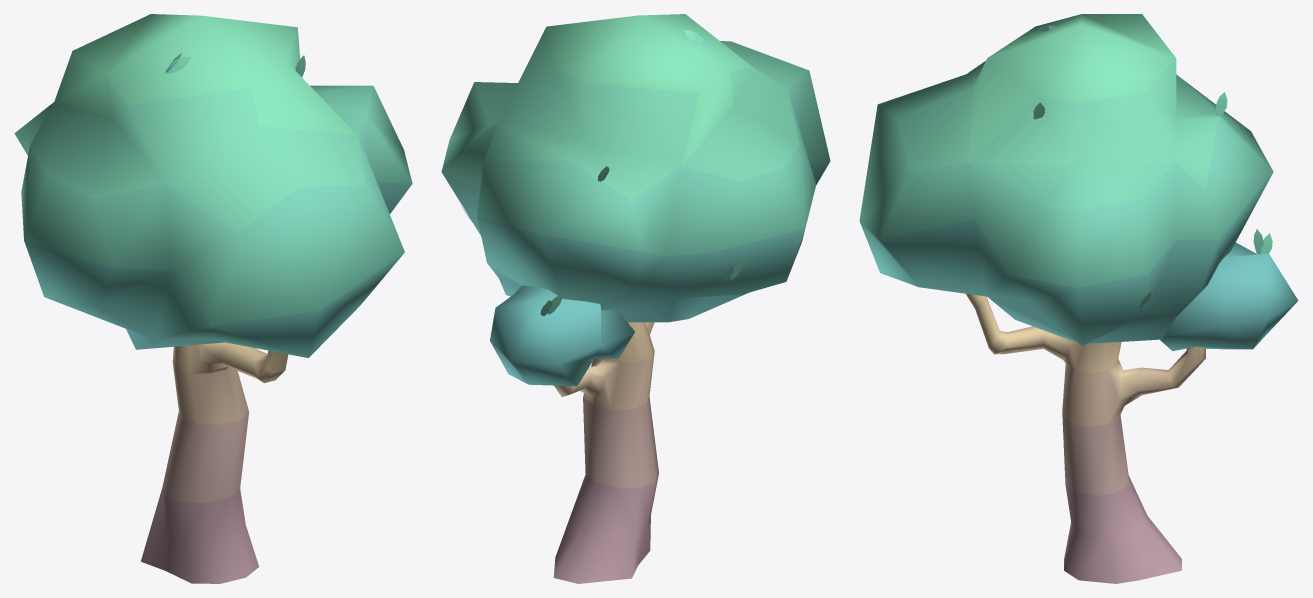
File: tree2.glb
3 renders of one model, left to right at view 1: azimuth 30°, elevation 25°; view 2: azimuth 150°, elevation 25°; view 3: azimuth 270°, elevation 25°, orthographic. The views are drawn at different scales.
Parts seen in each view (by area): view 1: Tree2.001; view 2: Tree2.001; view 3: Tree2.001.
Part boxes in pixels (box(x1,y1,x2,y2)): Tree2.001: box(14, 14, 412, 583); Tree2.001: box(441, 14, 830, 583); Tree2.001: box(859, 14, 1298, 583).
Bounding box in the file's own units: 3.06 × 4.36 × 3.28.
